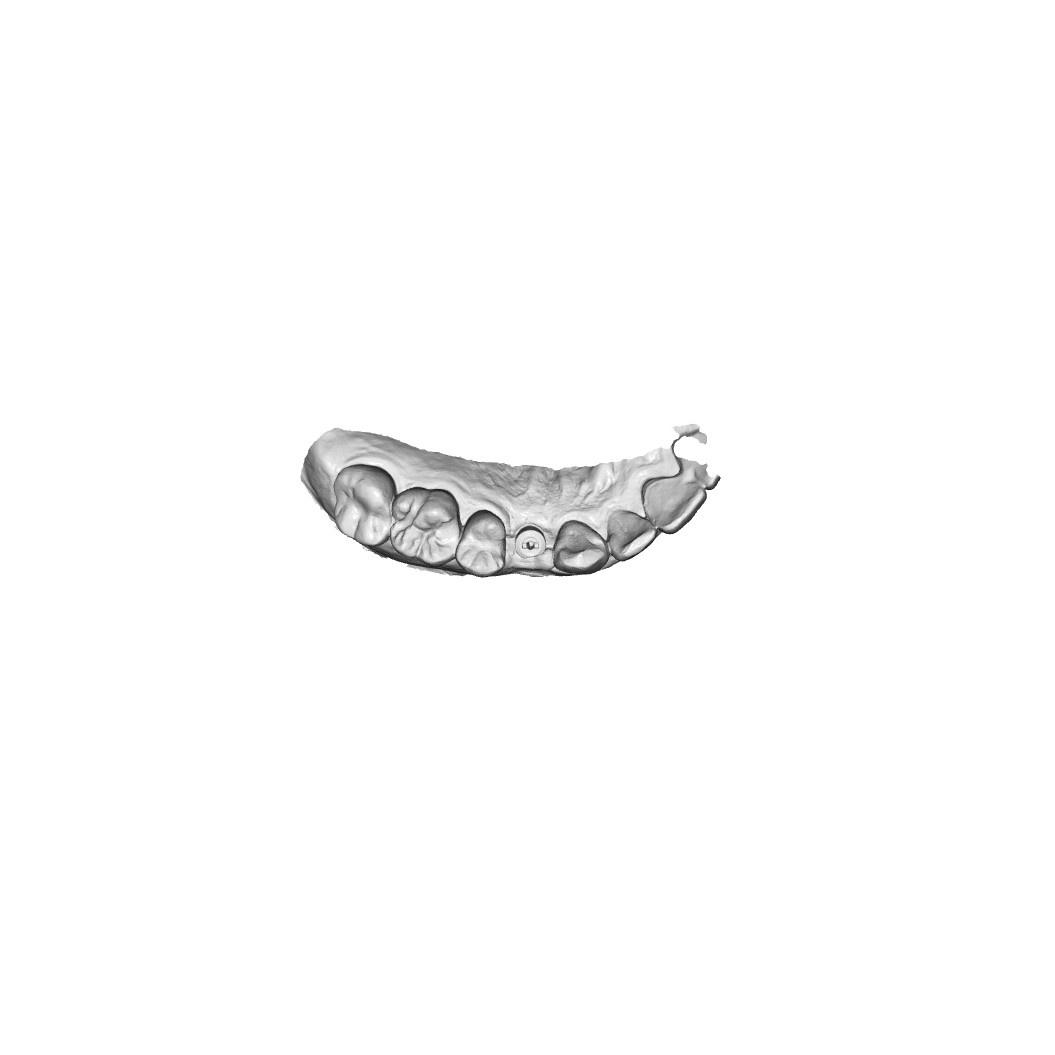canine: (553, 518, 604, 575)
implant_minus: (515, 522, 548, 565)
incisor: (636, 476, 706, 534), (607, 510, 658, 560)
molar: (387, 488, 457, 563), (331, 463, 394, 545)
premolar: (460, 511, 510, 579)
